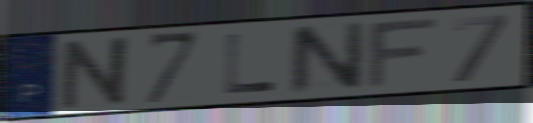7: (143, 30, 203, 107), (450, 13, 510, 84)
F: (364, 15, 443, 91)
L: (223, 31, 279, 96)
N: (286, 19, 368, 97), (56, 34, 138, 112)
